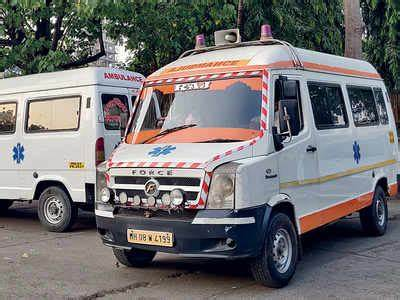ambulance: (88, 22, 384, 296), (3, 57, 145, 233)
